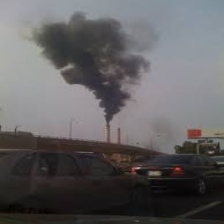smoke: (33, 13, 148, 120)
